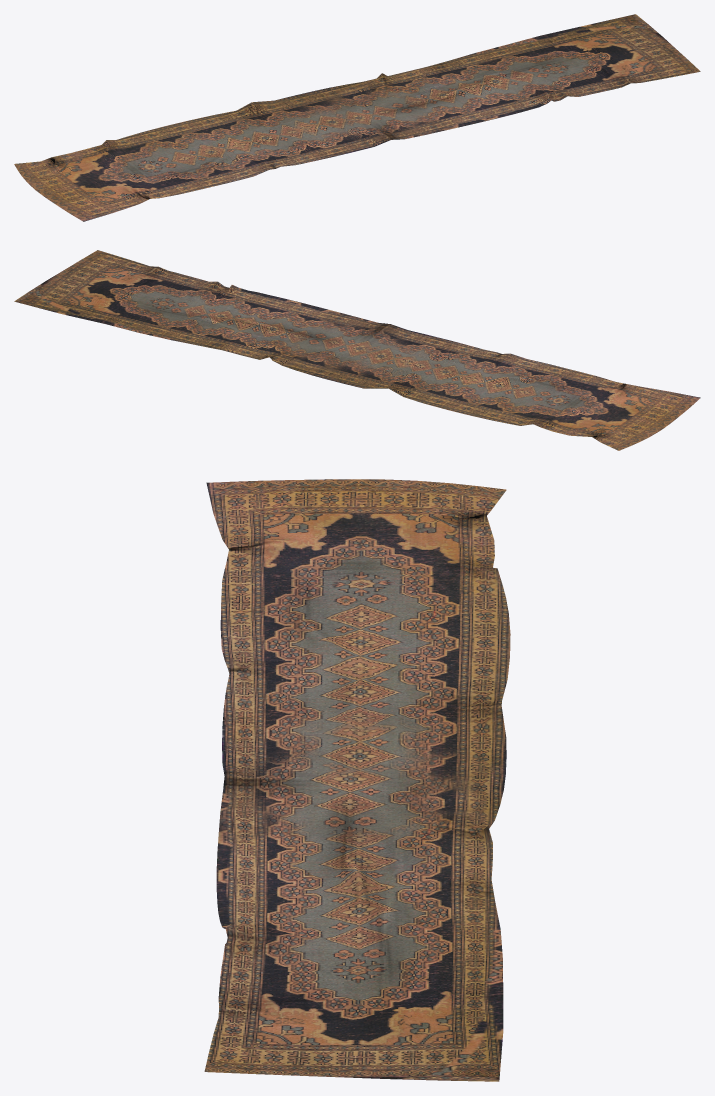
Rendered from SM_PersianCarpet_Long.fbx.
3 renders of one model, top to bottom at view 1: azimuth 30°, elevation 25°; view 2: azimuth 150°, elevation 25°; view 3: azimuth 270°, elevation 25°, orthographic. The views are drawn at different scales.
Parts seen in each view (by area): view 1: SM_PersianCarpet_Long_LOD0; view 2: SM_PersianCarpet_Long_LOD0; view 3: SM_PersianCarpet_Long_LOD0.
Part boxes in pixels (x1=…): SM_PersianCarpet_Long_LOD0: x1=14, y1=14, x2=700, y2=221; SM_PersianCarpet_Long_LOD0: x1=14, y1=250, x2=700, y2=450; SM_PersianCarpet_Long_LOD0: x1=204, y1=479, x2=510, y2=1081.
Size of the model in its own units: 569 by 122 by 5.22.
Materials: 1 (1 with a texture image).
